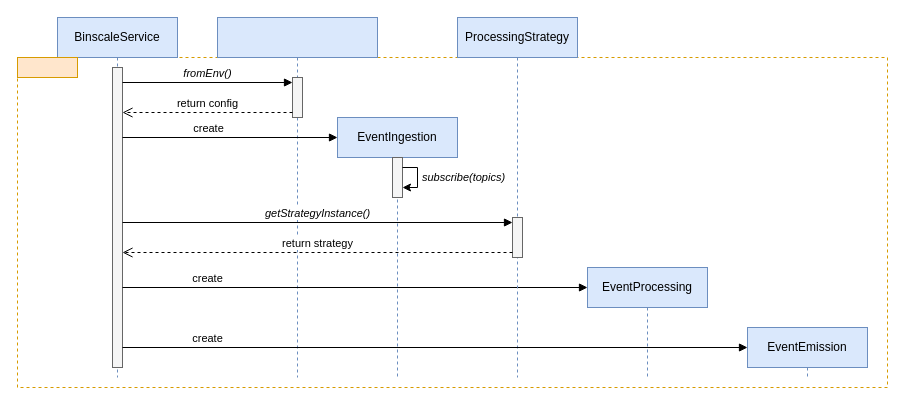
Image size: 905x405. Some labels were removed from this diagram. Each missing label, with the box of its shape:
DistributionConfigBuilder: (216, 16, 378, 378)
initialisation: (16, 56, 78, 78)
